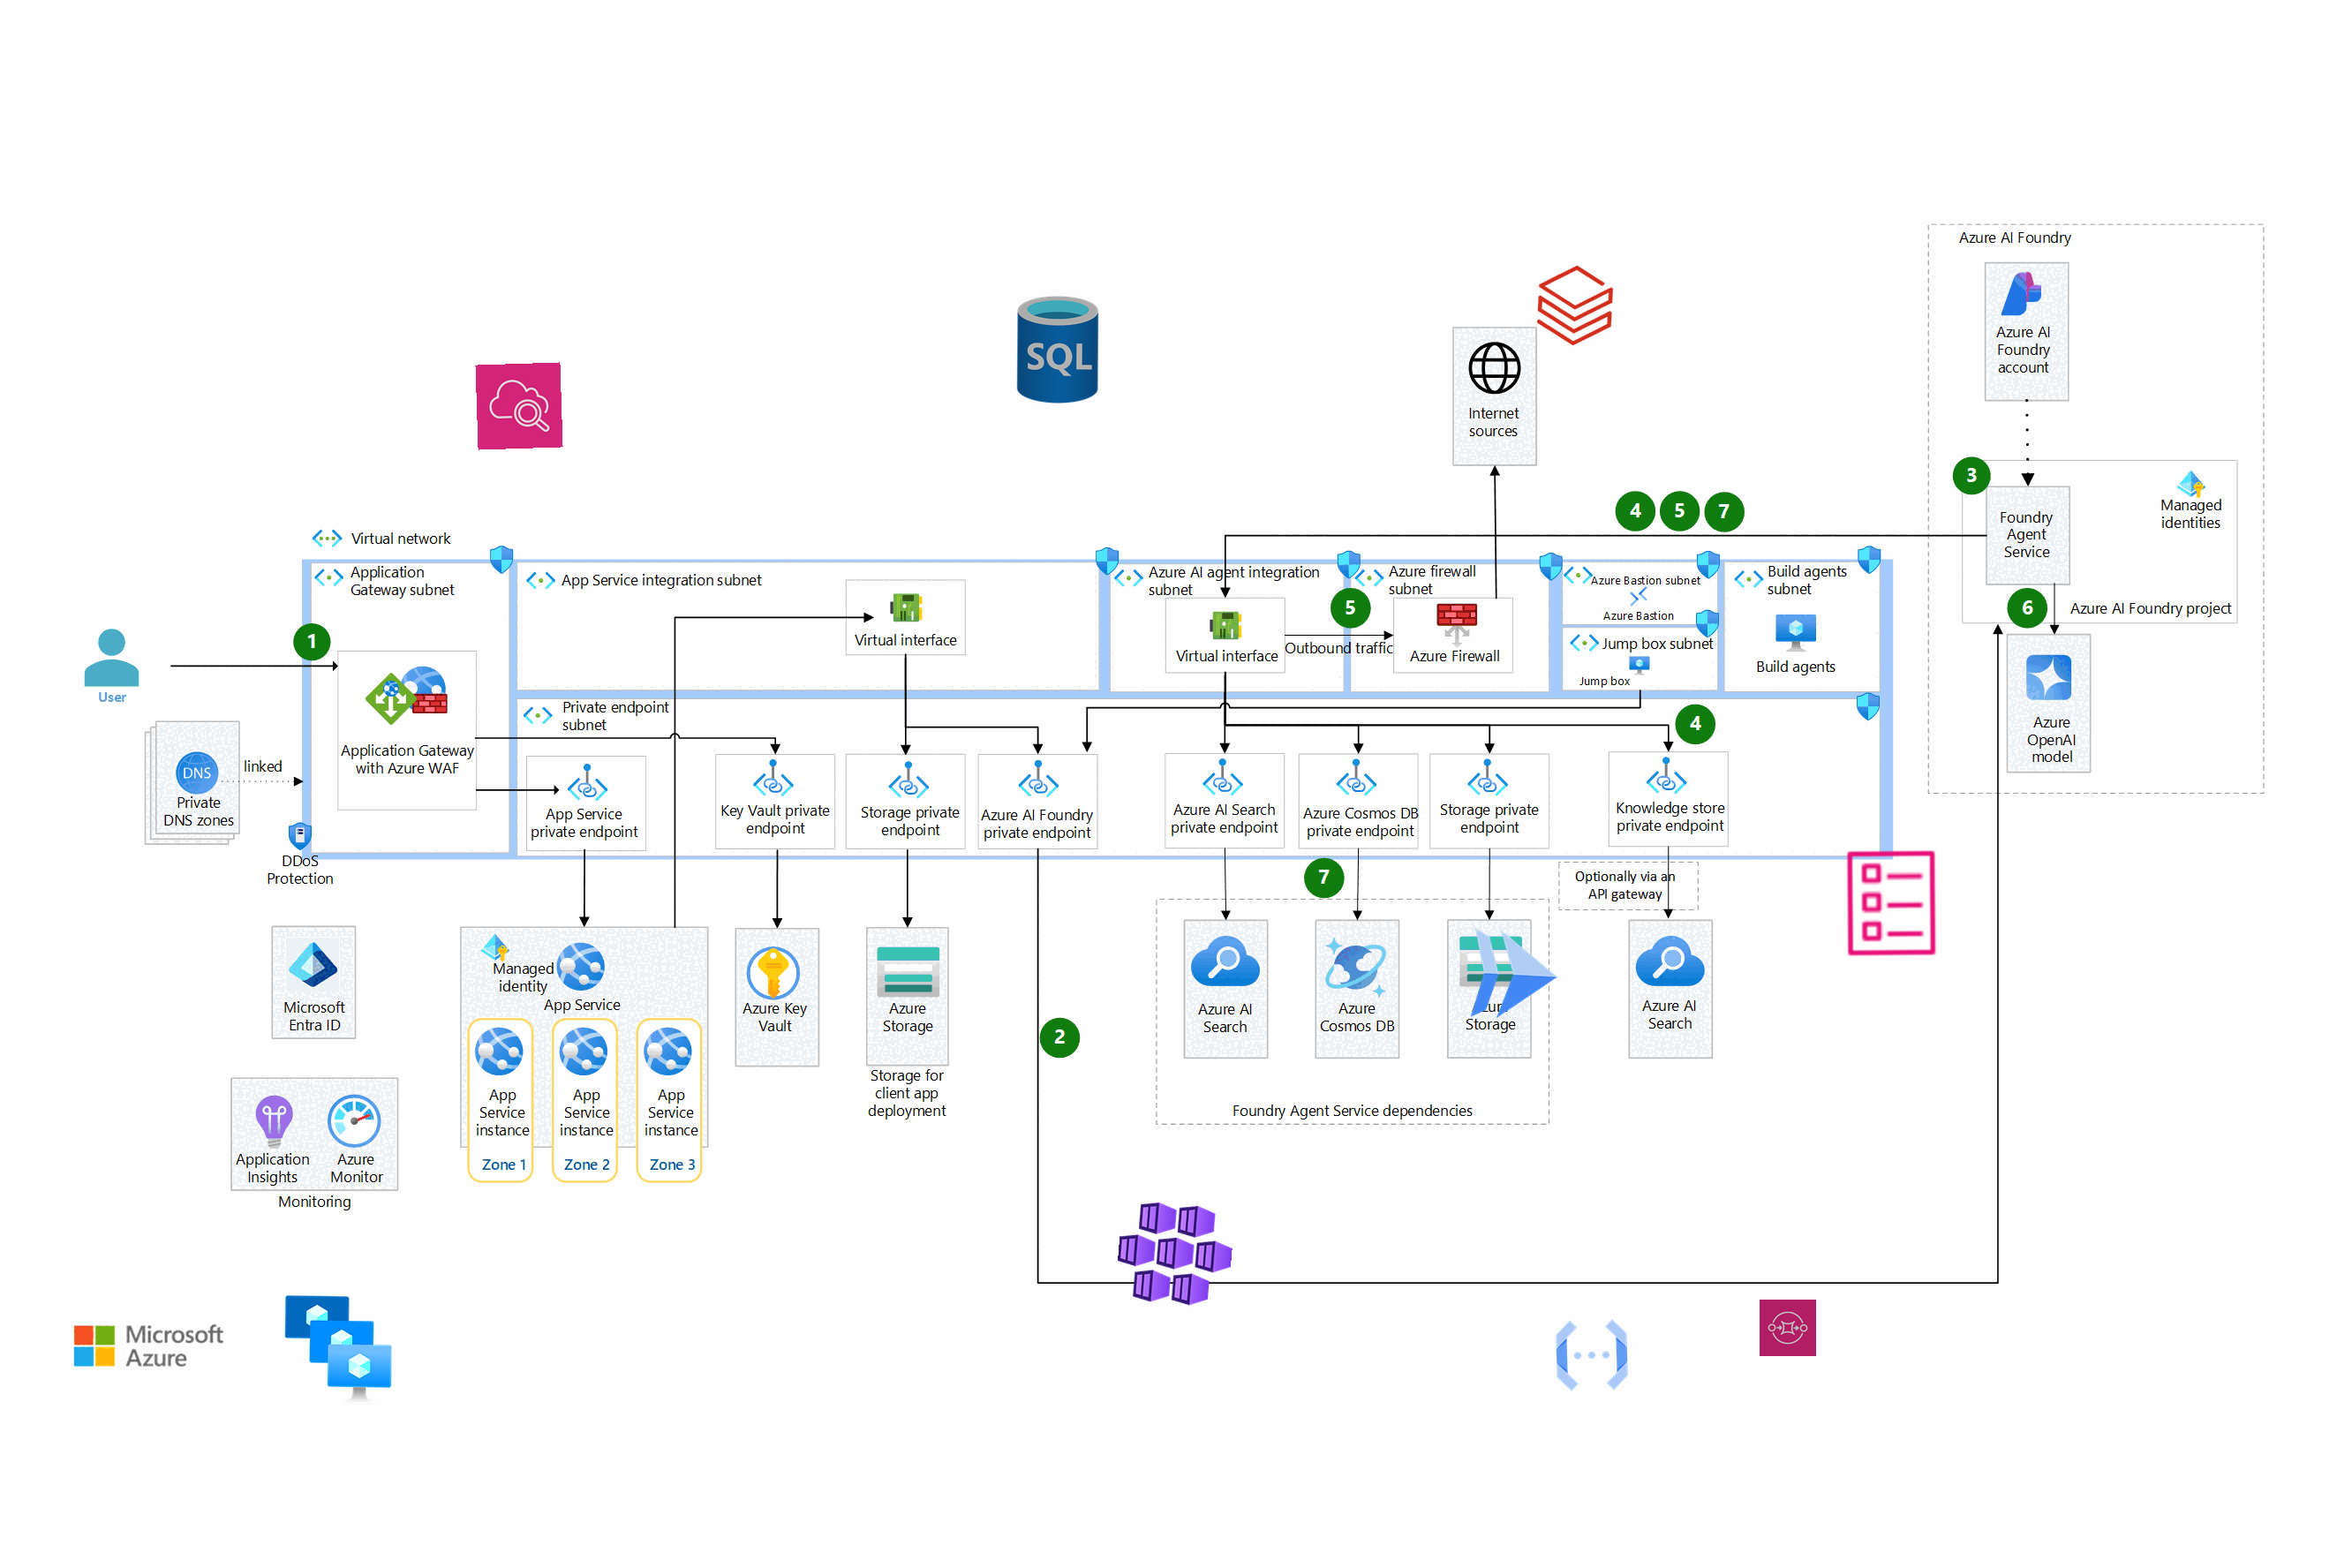aws_amazon_cloudwatch: (474, 362, 563, 450)
aws_amazon_simple_queue_service: (1759, 1298, 1816, 1356)
aws_cloudformation_template: (1832, 845, 1948, 961)
azure_databricks: (1529, 261, 1620, 350)
azure_kubernetes_services: (1113, 1192, 1237, 1314)
azure_sql_database: (1001, 292, 1115, 408)
azure_vm_scale_sets: (278, 1290, 394, 1405)
gcp_cloud_functions: (1547, 1311, 1636, 1400)
gcp_cloud_run: (1452, 915, 1573, 1034)
